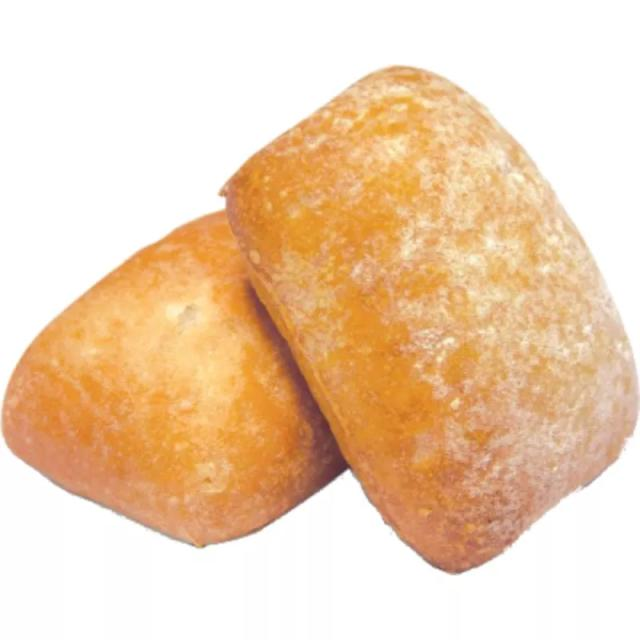Ciabatta: (221, 66, 637, 572), (3, 210, 346, 546)
